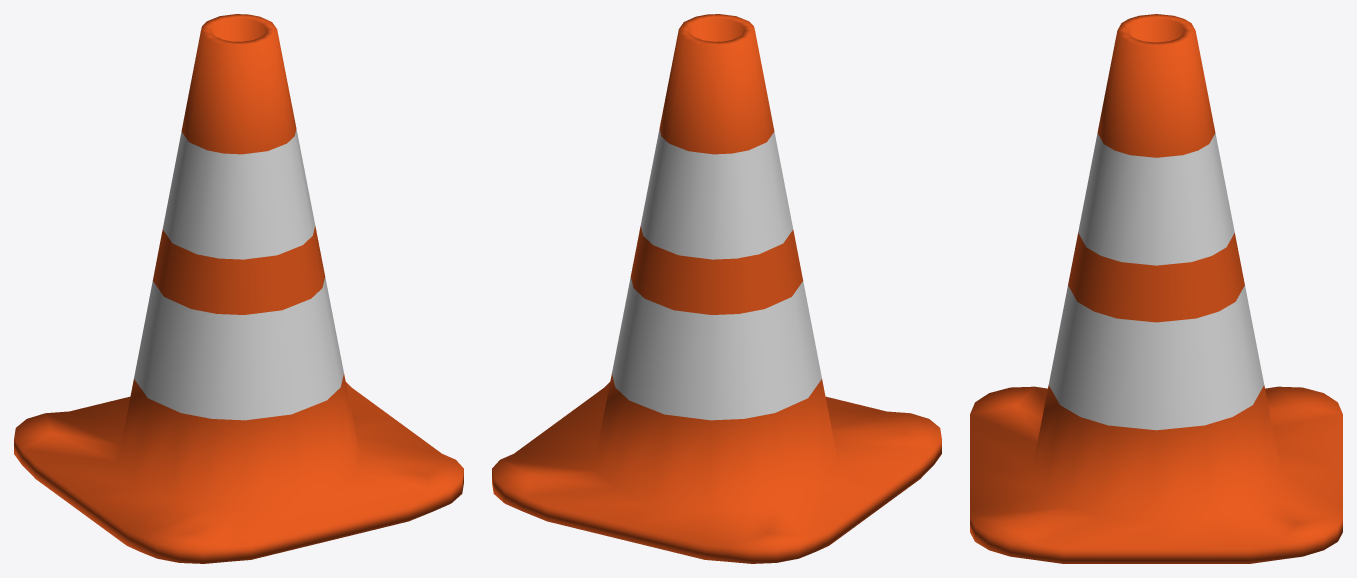
Rendered from plot.fbx.
3 views of the same model, side by side, from view 1: azimuth 30°, elevation 25°; view 2: azimuth 150°, elevation 25°; view 3: azimuth 270°, elevation 25° (orthographic). The views are drawn at different scales.
Parts seen in each view (by area): view 1: Plot; view 2: Plot; view 3: Plot.
Part boxes in pixels (x1,y1,x2,y2): Plot: [14, 14, 463, 563]; Plot: [492, 14, 941, 563]; Plot: [970, 14, 1342, 563].
Size of the model in its own units: 200 by 269 by 200.
